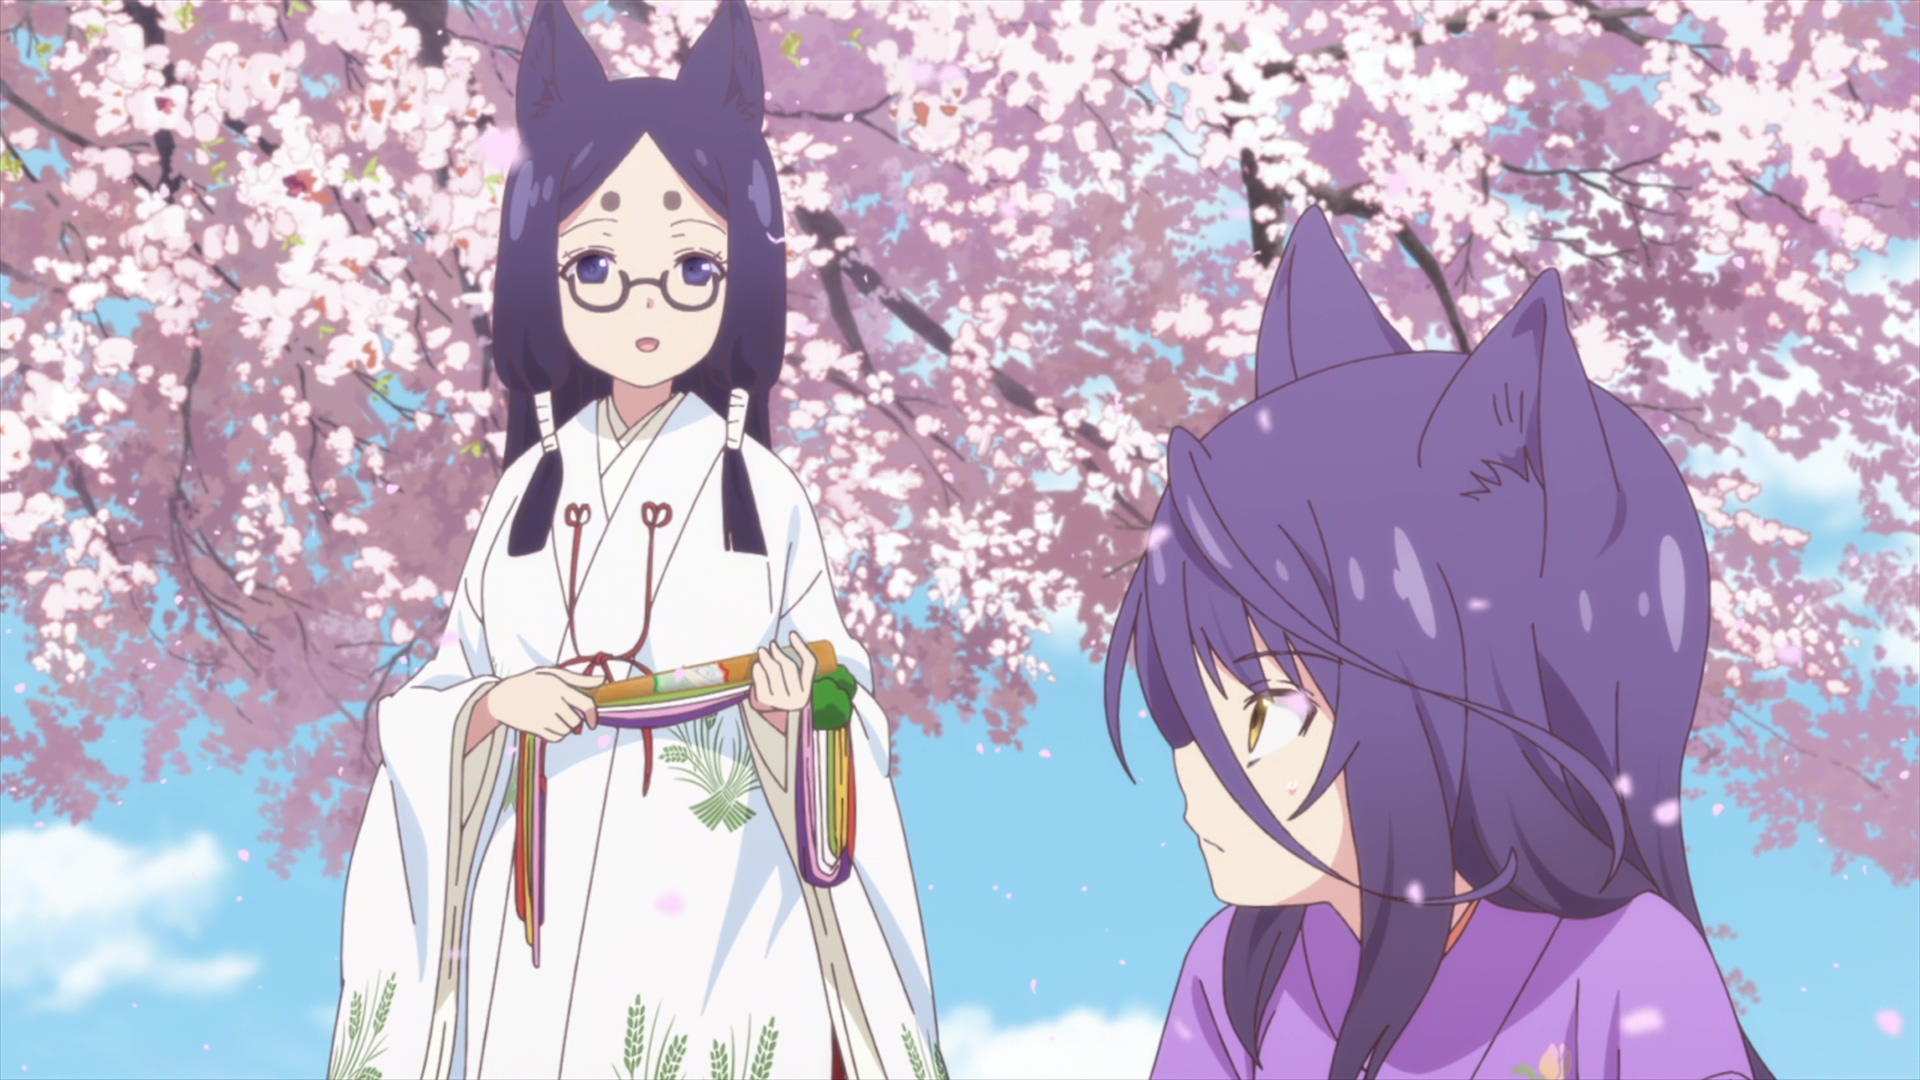皋: (1106, 204, 1776, 1080)
菖: (328, 1, 947, 1080)
